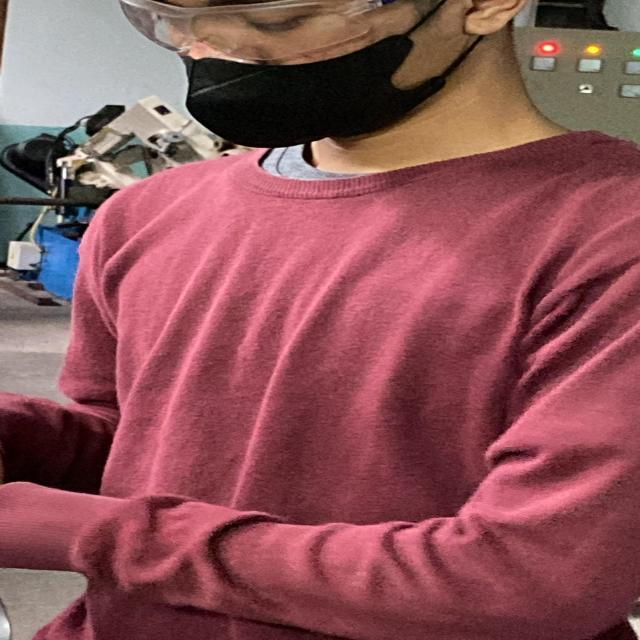glasses: (108, 0, 406, 67)
